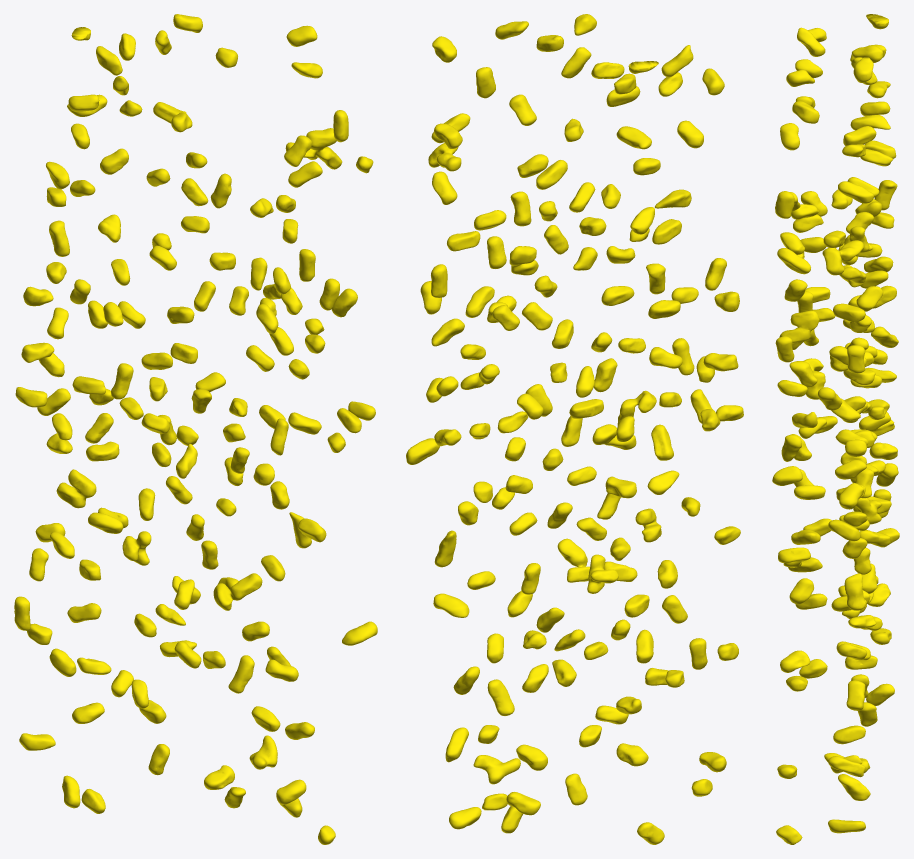
Rendered from channel.glb.
The picture shows the model from 3 angles, left to right: view 1: azimuth 30°, elevation 25°; view 2: azimuth 150°, elevation 25°; view 3: azimuth 270°, elevation 25°; orthographic projection. The views are drawn at different scales.
Parts seen in each view (by area): view 1: Channel; view 2: Channel; view 3: Channel.
Part boxes in pixels (x1,y1,x2,y2): Channel: [14, 14, 377, 844]; Channel: [406, 14, 743, 844]; Channel: [772, 14, 899, 844].
Size of the model in its own units: 1605 by 3856 by 605.
